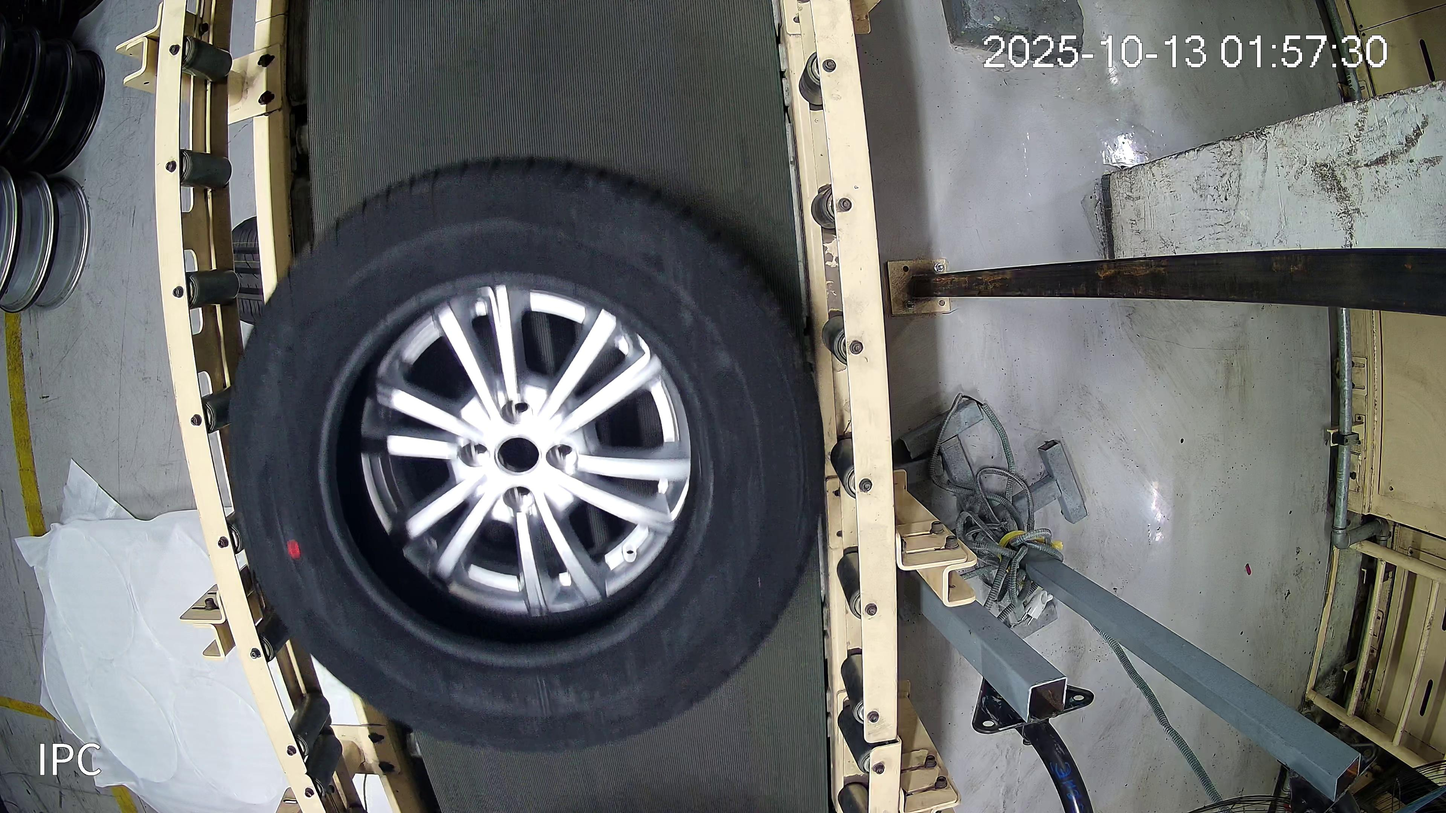white_wheel: (352, 282, 704, 624)
